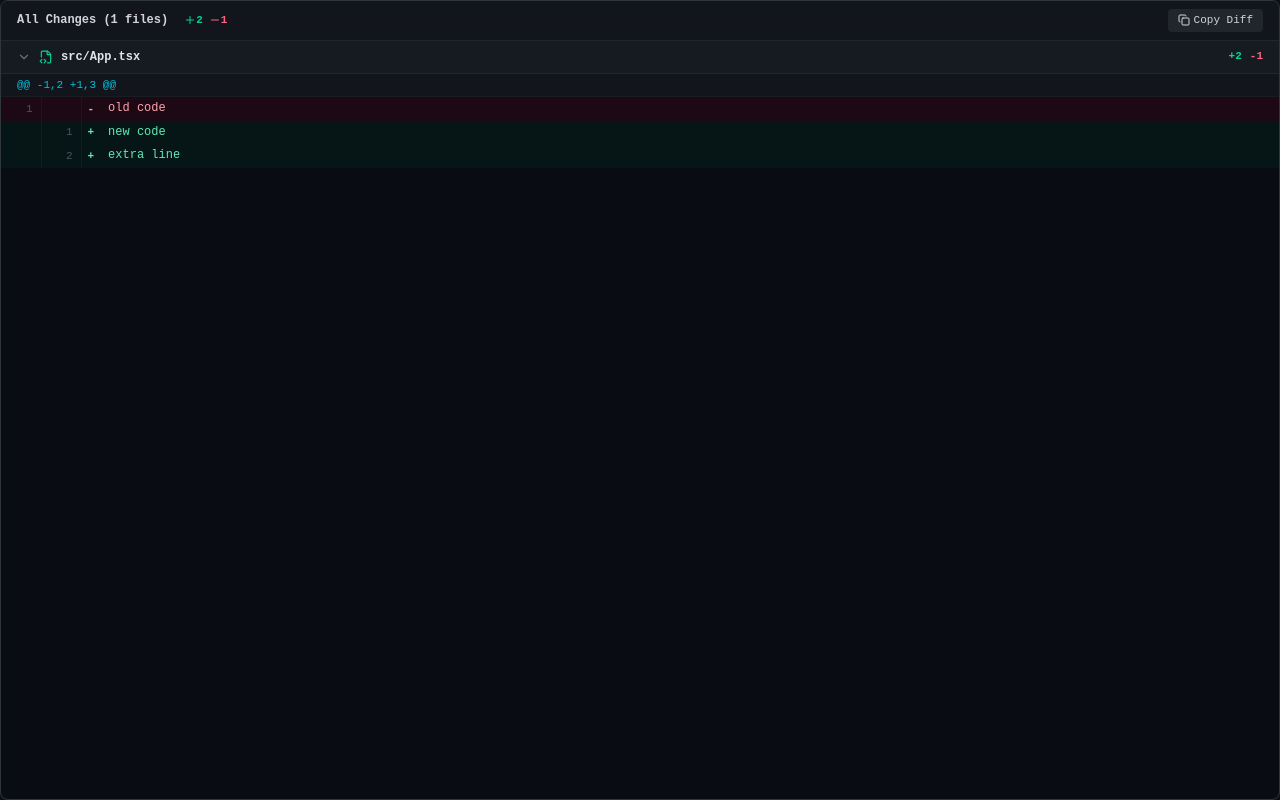
Test: DiffViewer Component › copies raw diff to clipboard on button click
Click the button with test id "copy-diff-button": (1215, 20) top-left (1168, 9), bottom-right (1263, 32)
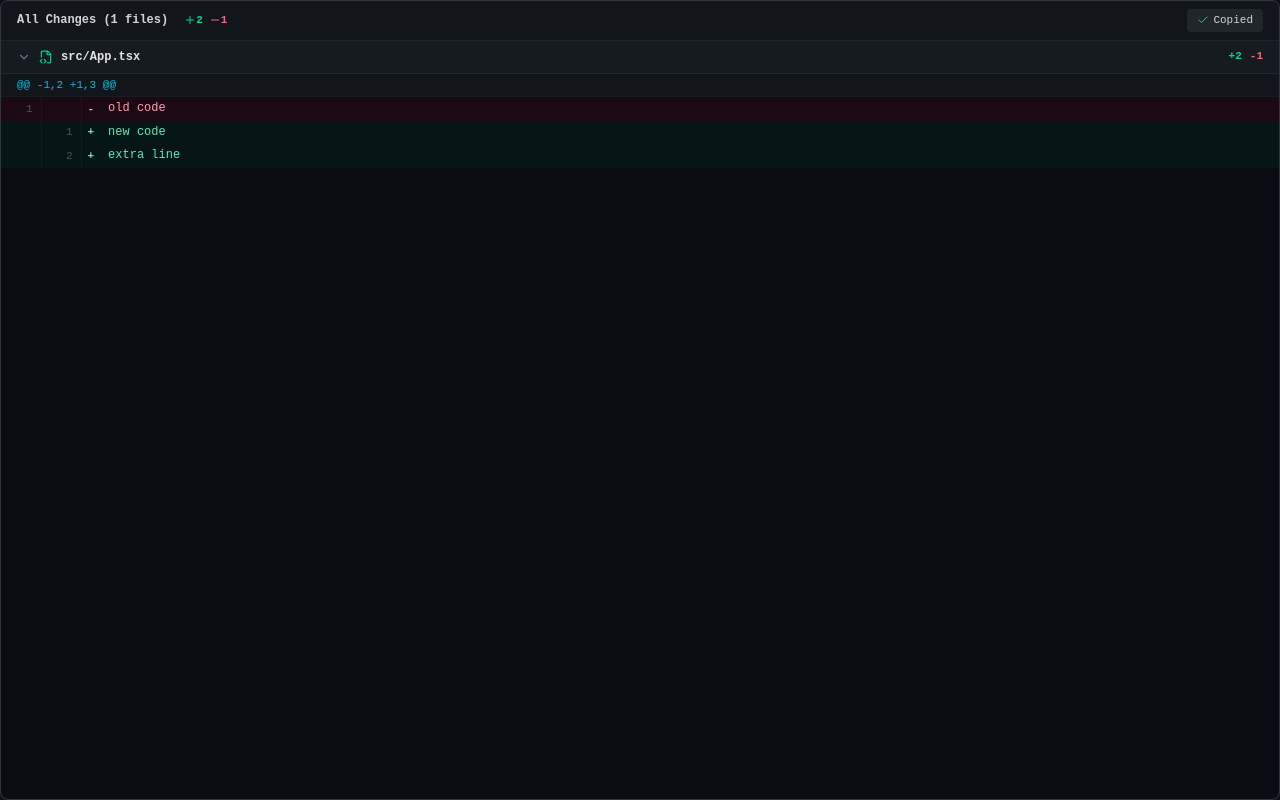
Expected: the text "Copied" is shown, top-left (1213, 13), bottom-right (1253, 28)
